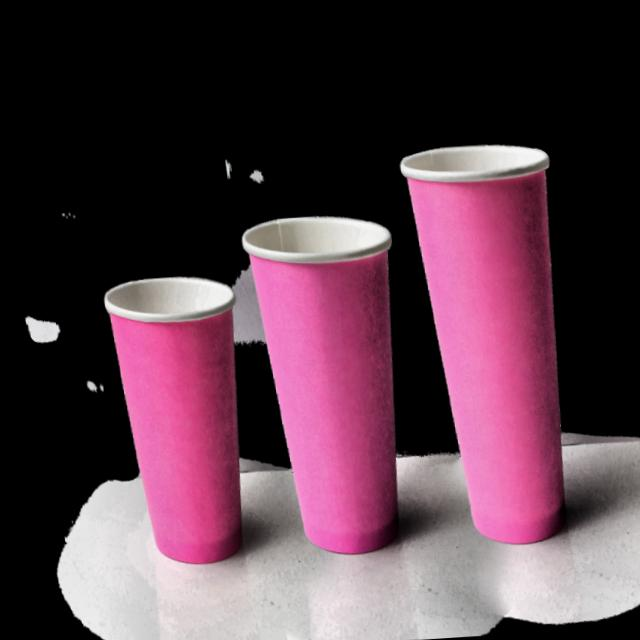Cup: (395, 128, 589, 543), (239, 206, 425, 564), (91, 261, 269, 576)
